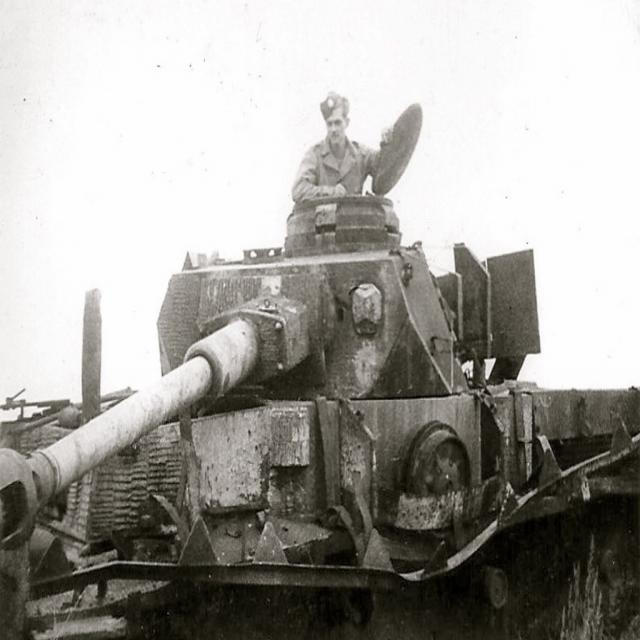tank: (0, 98, 639, 637)
